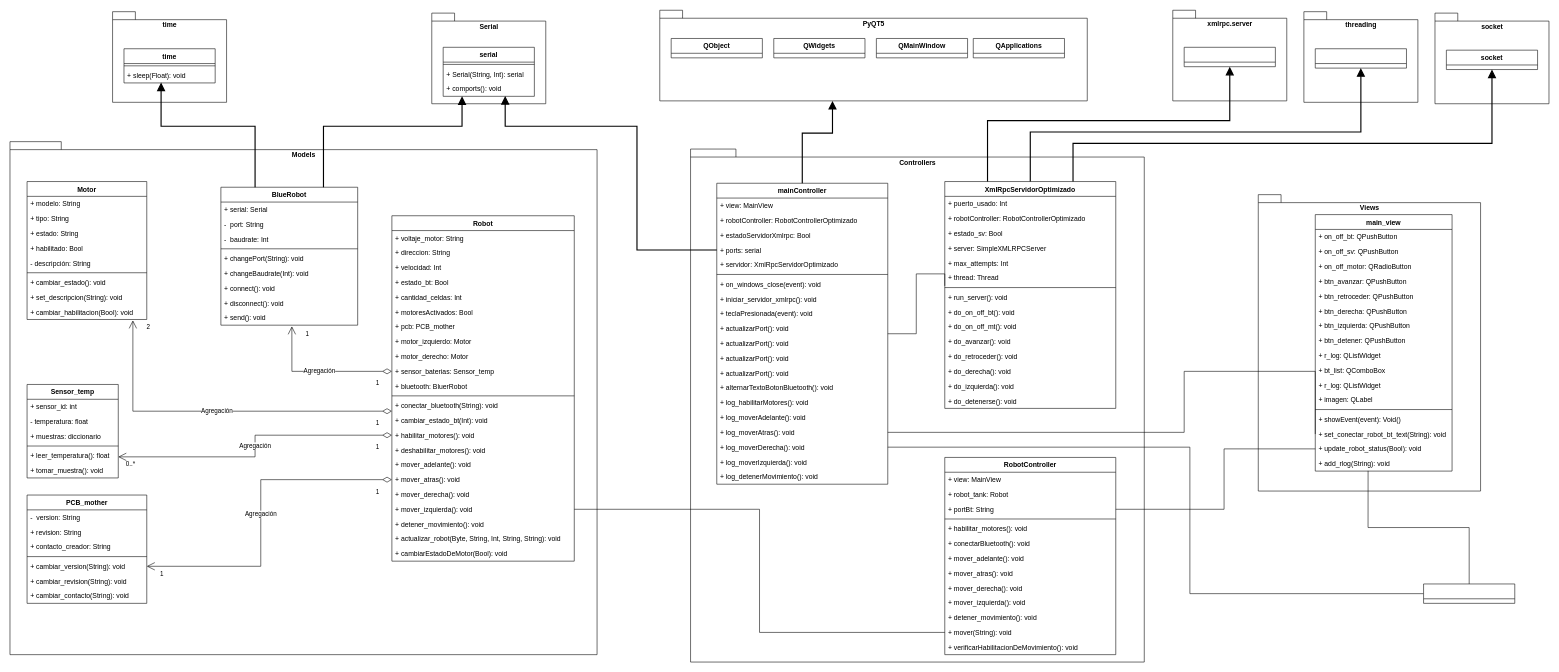
The diagram is 1559 pixels wide and 672 high, and some of its shapes have lost their labels. The centre of each missing label's shape, as x and y in pixels:
app: (1469,593)
SimpleXMLRPCServer: (1229,57)
Thread: (1360,58)
